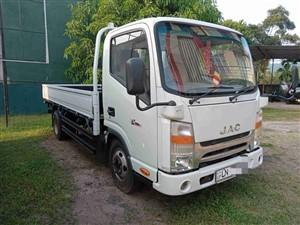truck: (42, 15, 265, 196)
